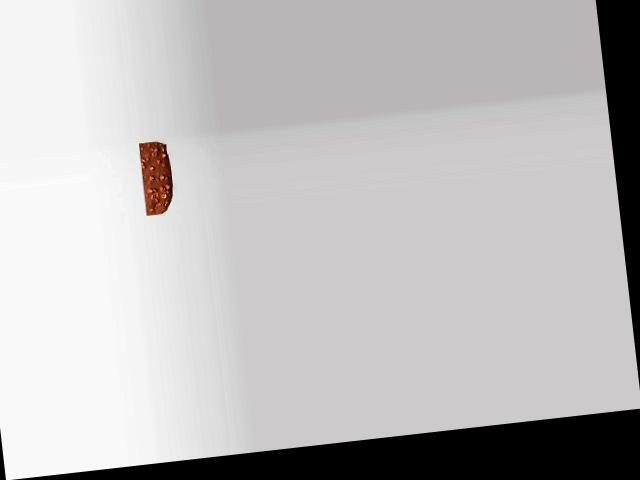chocolate: (135, 140, 181, 216)
